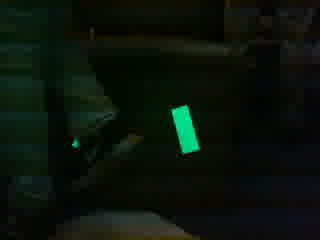target: (69, 98, 200, 155)
